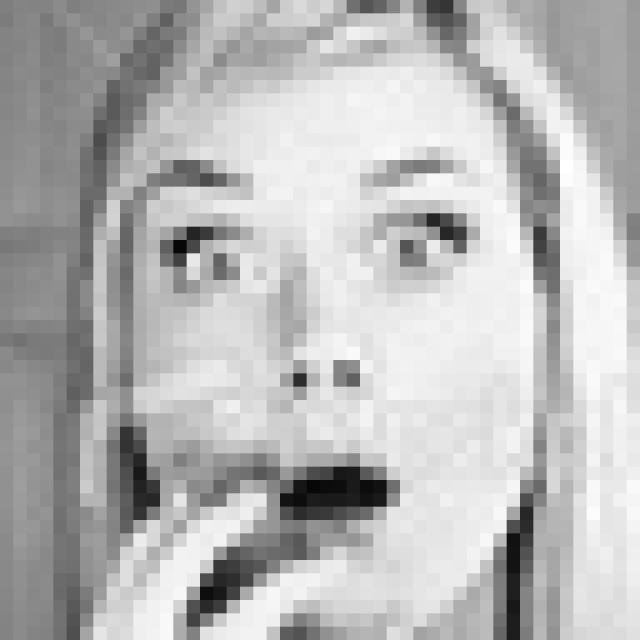fear: (135, 152, 492, 568)
